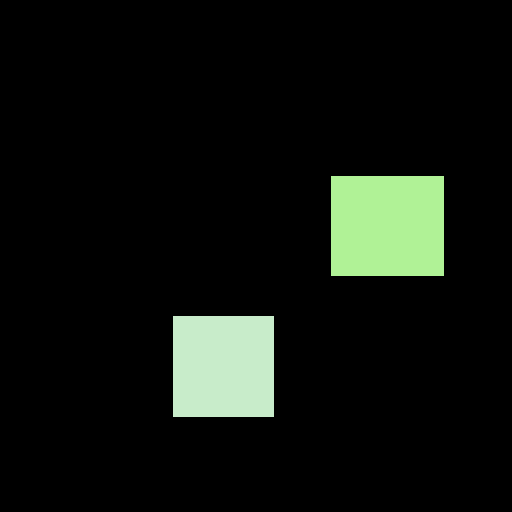rectangle: (331, 176, 443, 275)
square: (173, 316, 273, 416)
